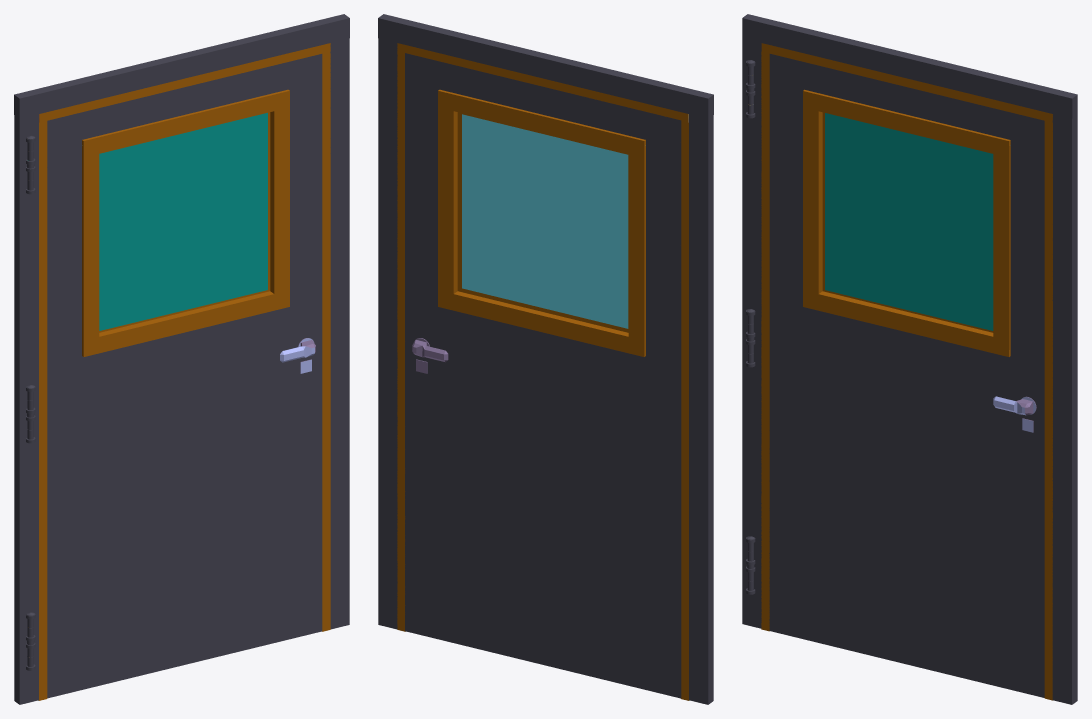
File: Puerta_FelipeM_46876230.fbx
3 views of the same model, side by side, from view 1: azimuth 30°, elevation 25°; view 2: azimuth 150°, elevation 25°; view 3: azimuth 330°, elevation 25° (orthographic).
Visible parts, largest first — view 1: Puerta, Marcos de madera, ventana, Picaportes + cerradura; view 2: Puerta, Marcos de madera, ventana, Picaportes + cerradura; view 3: Puerta, Marcos de madera, ventana, Picaportes + cerradura.
Part boxes in pixels (x1,y1,x2,y2): Puerta: [47, 54, 322, 698]; Marcos de madera: [14, 14, 349, 704]; ventana: [99, 112, 270, 332]; Picaportes + cerradura: [280, 338, 315, 373]; Puerta: [405, 53, 681, 698]; Marcos de madera: [378, 14, 713, 704]; ventana: [457, 112, 628, 332]; Picaportes + cerradura: [412, 338, 448, 373]; Puerta: [769, 54, 1044, 697]; Marcos de madera: [742, 14, 1077, 704]; ventana: [822, 112, 993, 332]; Picaportes + cerradura: [993, 396, 1036, 432].
Bounding box in the file's own units: 120 × 210 × 11.
1 material, 1 textured.
